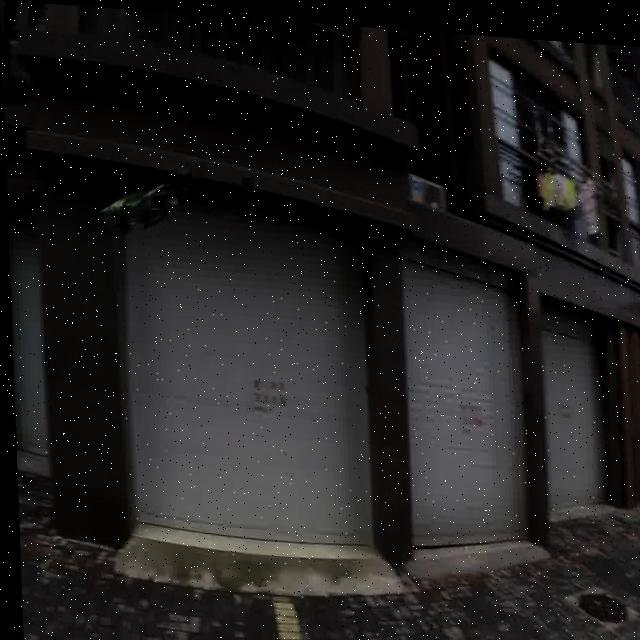drone: (88, 155, 195, 237)
